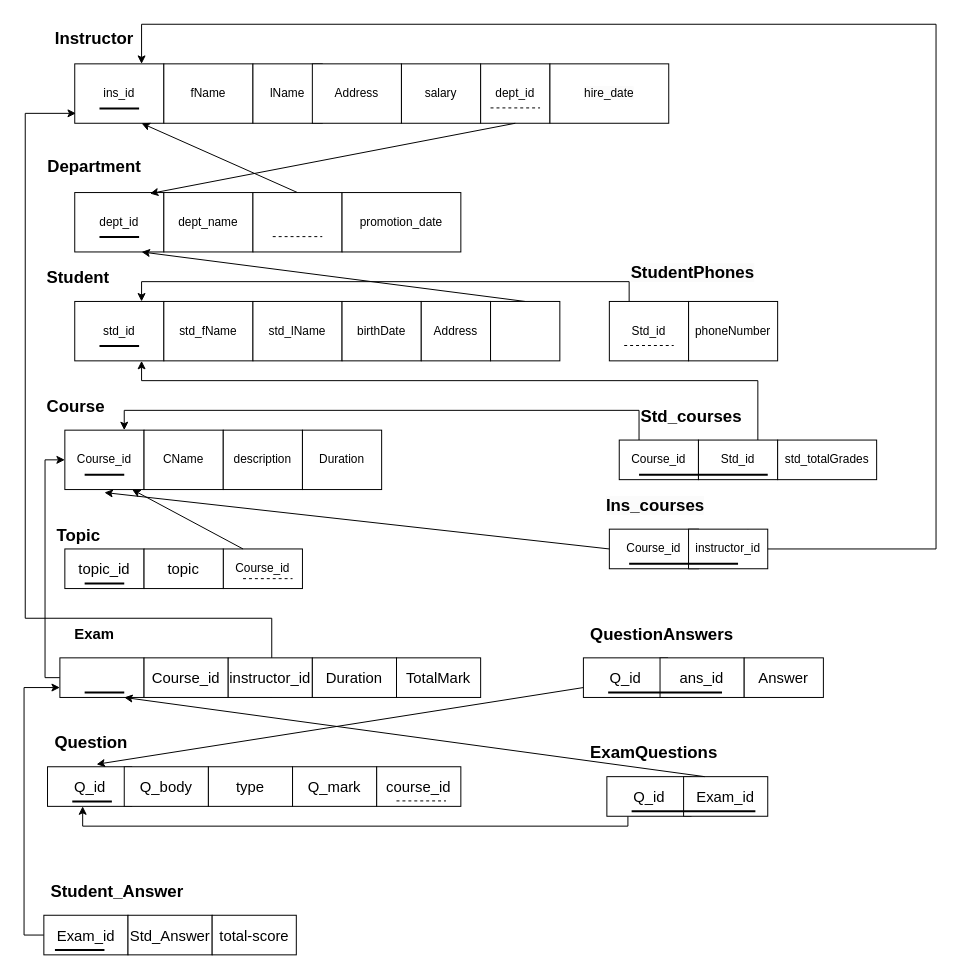
The diagram is 962 pixels wide and 973 high, and some of its shapes have lost their labels. Each missing label, with the centre of its shape:
DeptId: (525,330)
Ex_id: (101,677)
manager_id: (297,222)
